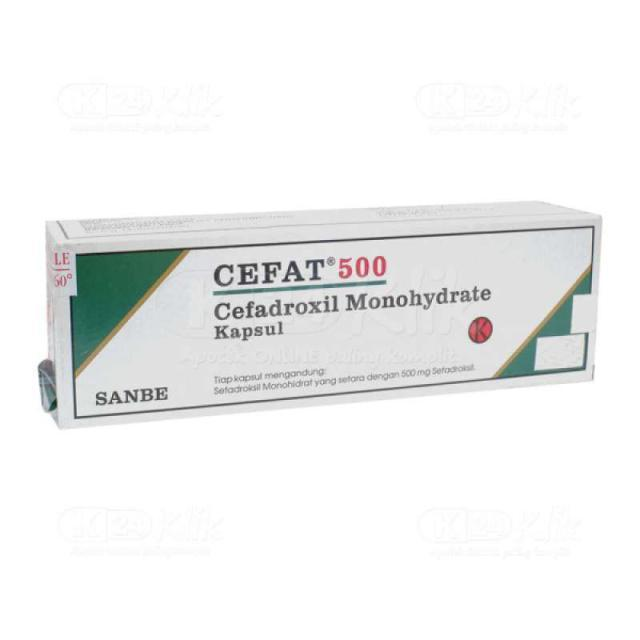drug-name: (207, 252, 389, 290)
